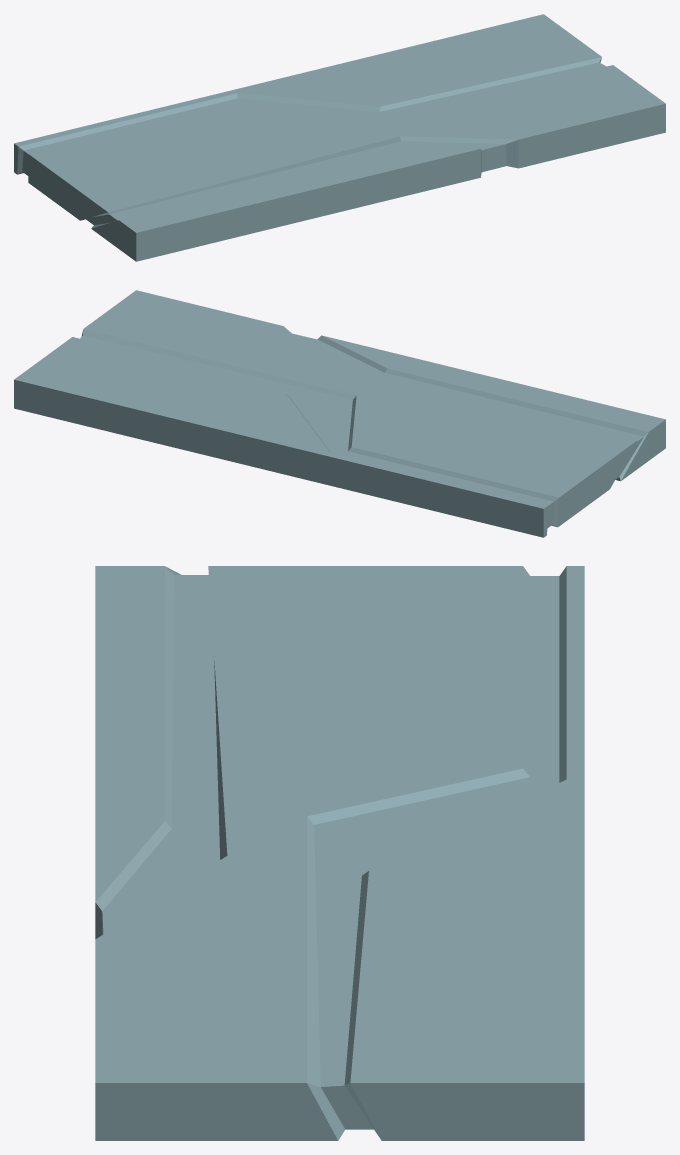
Rendered from stairs.fbx.
3 views of the same model, one above another, from view 1: azimuth 30°, elevation 25°; view 2: azimuth 150°, elevation 25°; view 3: azimuth 270°, elevation 25° (orthographic). The views are drawn at different scales.
Visible parts, largest first — view 1: Box015; view 2: Box015; view 3: Box015.
Part boxes in pixels (x1,y1,x2,y2): Box015: (14,14,665,261); Box015: (14,290,665,537); Box015: (95,566,584,1140).
Bounding box in the file's own units: 112 × 5.83 × 44.68.
